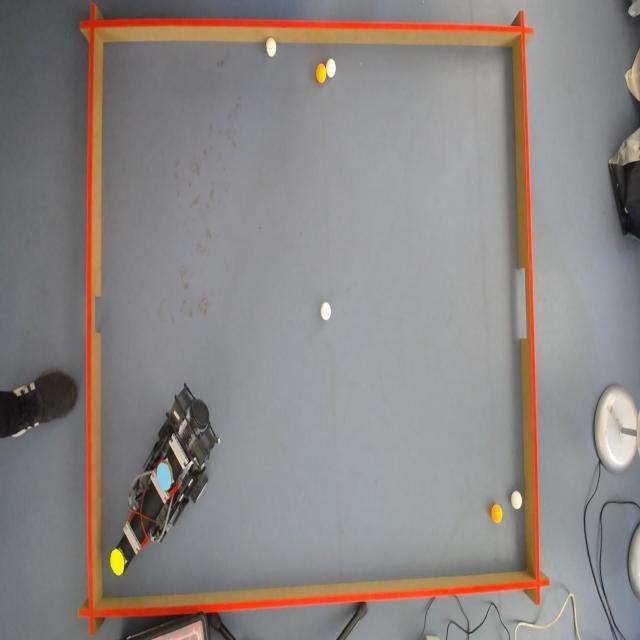orange: (492, 505, 503, 525), (316, 62, 326, 84)
robot: (124, 374, 206, 564)
robot-front: (110, 548, 124, 575)
robot-rear: (157, 462, 171, 490)
white: (318, 300, 331, 321), (266, 37, 278, 59), (510, 492, 522, 510), (326, 58, 336, 78)
